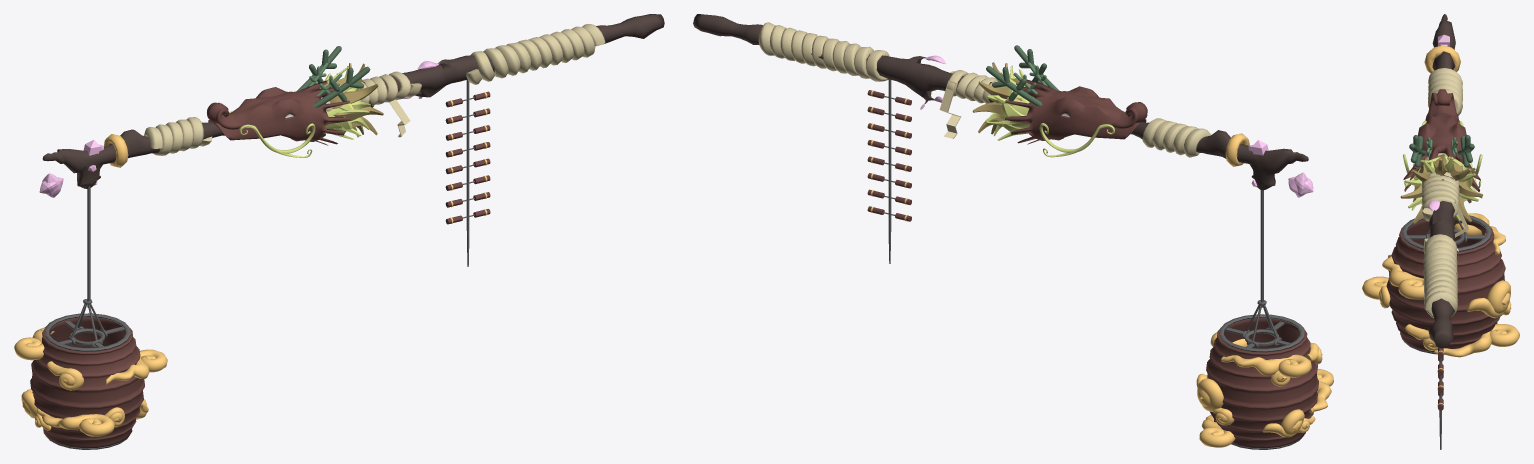
File: Starbloom_Festival_Model_02.fbx
The picture shows the model from 3 angles, left to right: view 1: azimuth 30°, elevation 25°; view 2: azimuth 150°, elevation 25°; view 3: azimuth 270°, elevation 25°; orthographic projection. The views are drawn at different scales.
Parts seen in each view (by area): view 1: pCube39; view 2: pCube39; view 3: pCube39.
Boxes of the visible parts, x1,y1,x2,y2 form: pCube39: [14, 14, 664, 449]; pCube39: [693, 14, 1333, 449]; pCube39: [1362, 14, 1519, 449].
Size of the model in its own units: 13.8 by 6.56 by 2.87.
